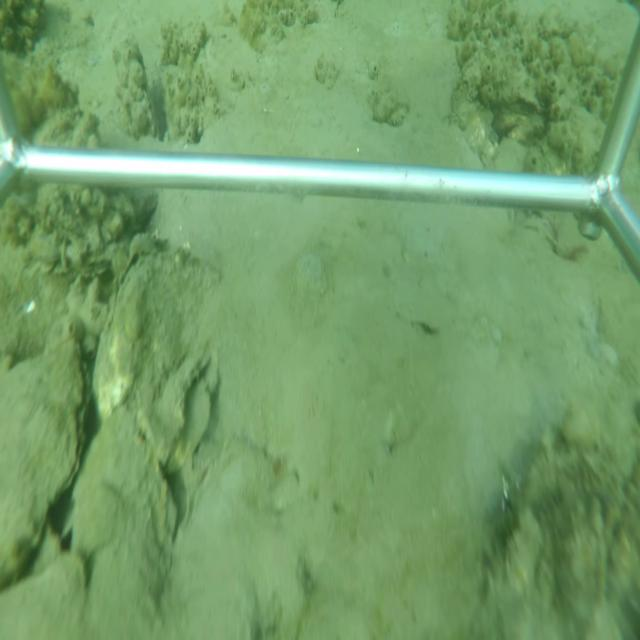Oyster-Closed: (0, 316, 93, 580), (94, 247, 227, 425)
